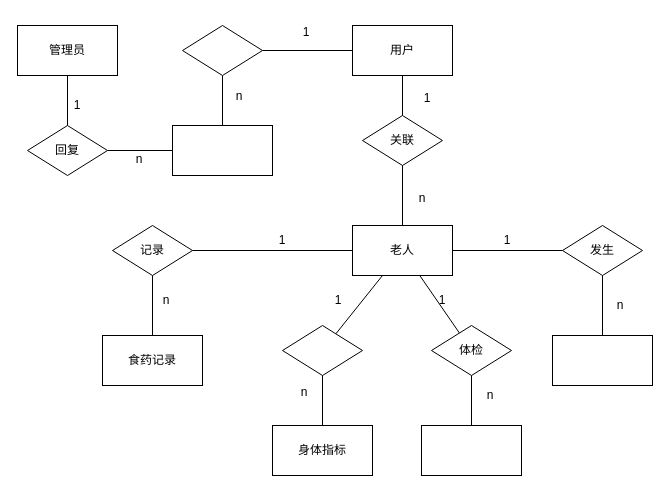
Image size: 670x493. Some labels were removed from this diagram. Each missing label, with the centre of its shape:
"体检病例" goes at point (471, 450).
"提交" goes at point (222, 50).
"留言信息" goes at point (222, 150).
"监测" goes at point (322, 350).
"突发情况" goes at point (602, 360).
